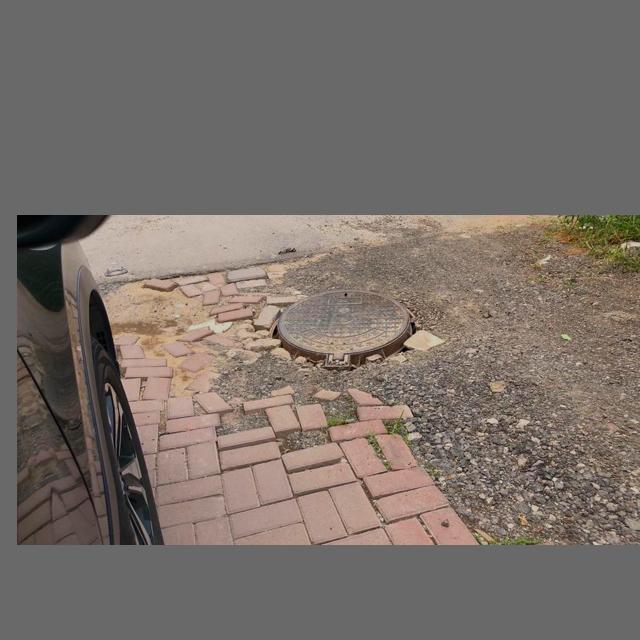circle: (222, 266, 458, 397)
